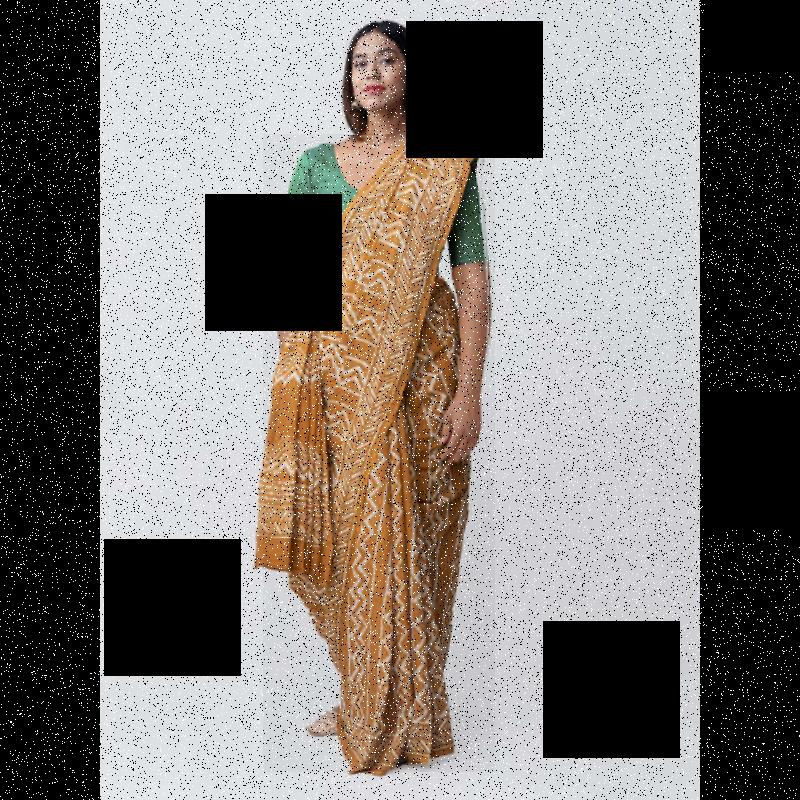Sari: (263, 134, 495, 772)
